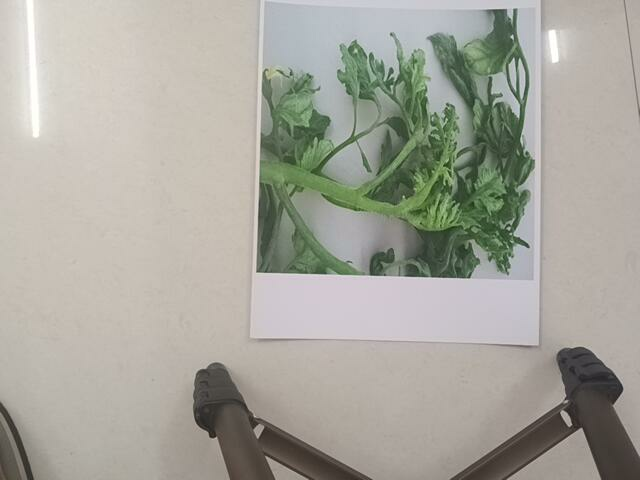Tomamto_Mosaic_virus: (257, 8, 540, 280)
